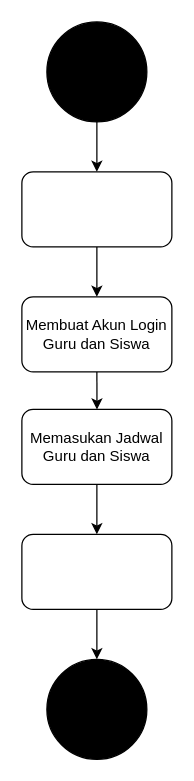
Image size: 194x781. Some labels were removed from this diagram. Here are the shapes that lost their labels. From the top down, the box of each, then its label:
(21, 171, 172, 247): Memasuki halaman Admin
(21, 533, 172, 609): Rapot
